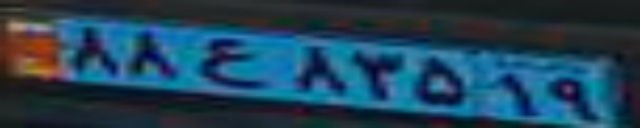1: (498, 72, 540, 117)
3: (353, 51, 407, 101)
5: (413, 56, 464, 106)
8: (125, 29, 177, 80), (67, 26, 118, 76), (295, 45, 342, 94)
9: (546, 77, 599, 122)
ain: (197, 37, 269, 88)
